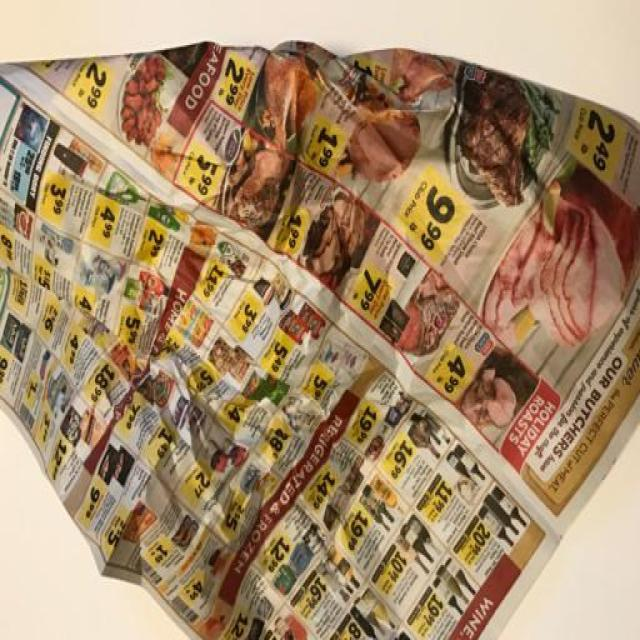paper: (0, 39, 639, 638)
